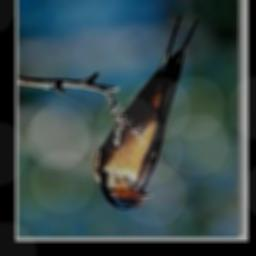Swallow: (93, 15, 199, 210)
